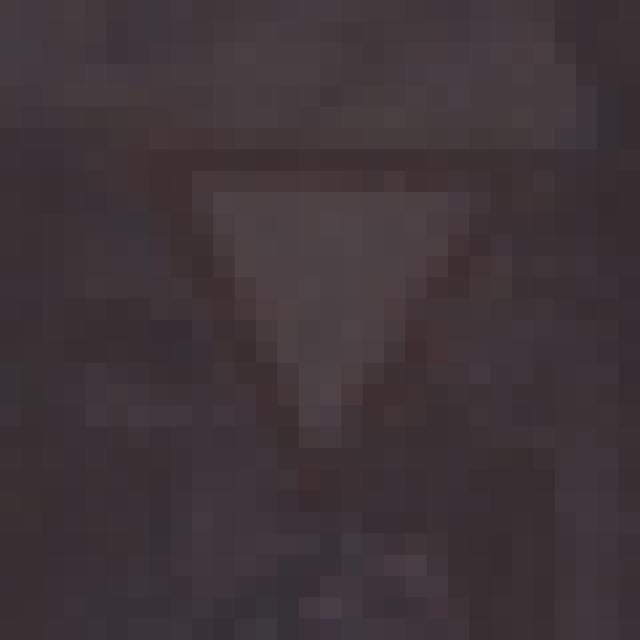Give Way: (129, 108, 534, 534)
